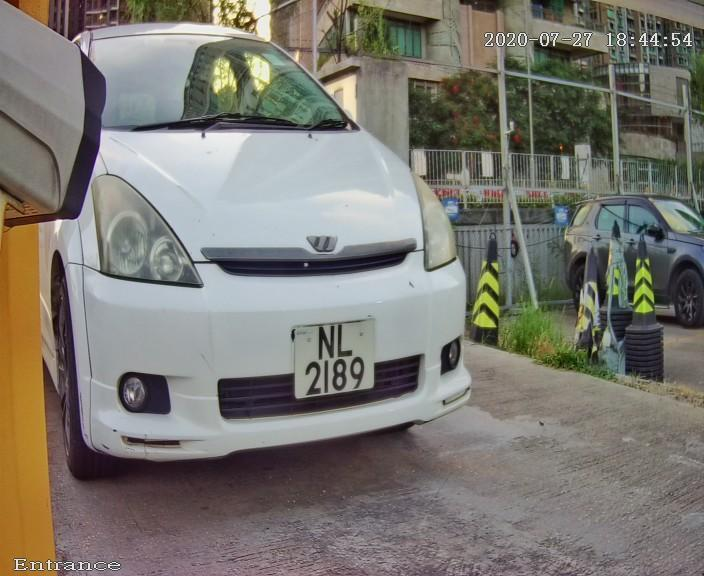privatecar: (51, 16, 503, 489)
